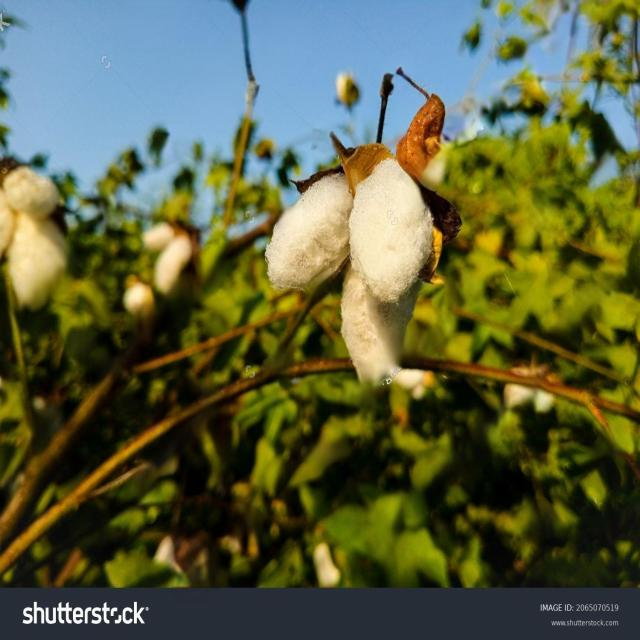Leaf: (255, 44, 474, 416), (0, 146, 78, 332)
